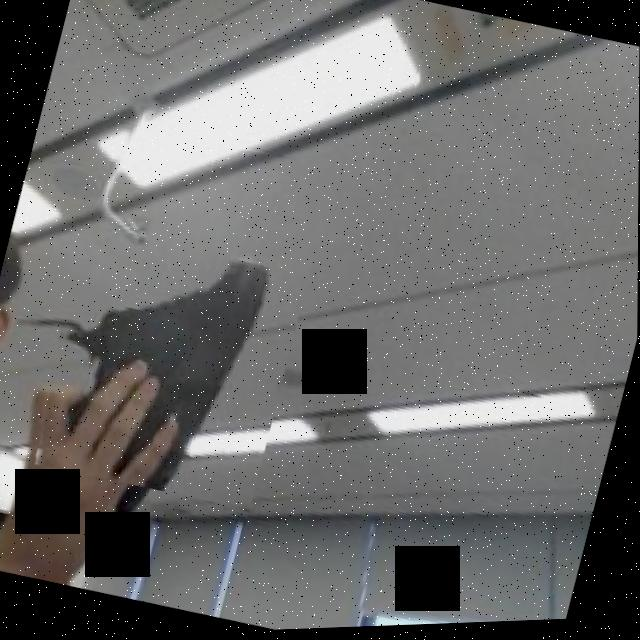shoe: (23, 195, 316, 519)
